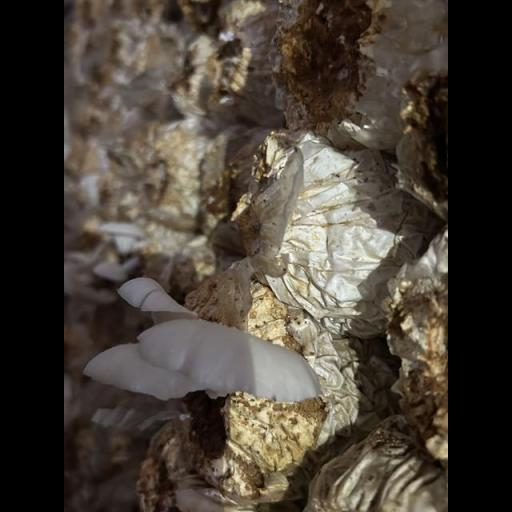White Oyster Mushroom: (89, 277, 319, 403)
